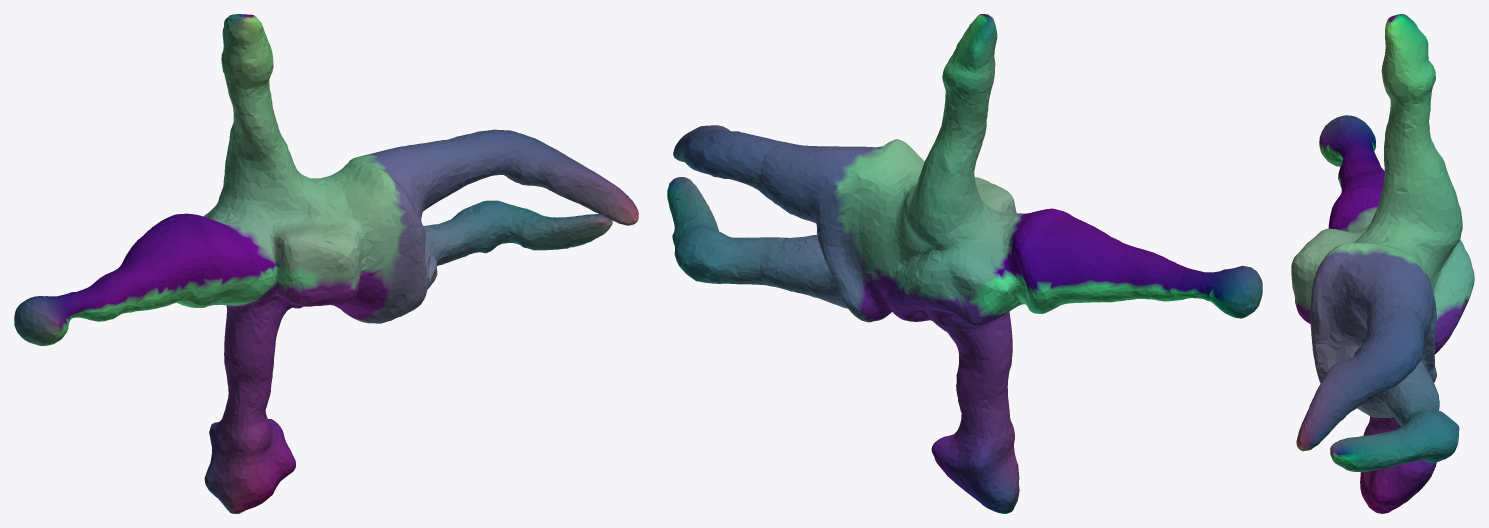
File: santa-4.off.obj
3 renders of one model, left to right at view 1: azimuth 30°, elevation 25°; view 2: azimuth 150°, elevation 25°; view 3: azimuth 270°, elevation 25°, orthographic.
Size of the model in its own units: 1.71 by 1.34 by 0.4464.
